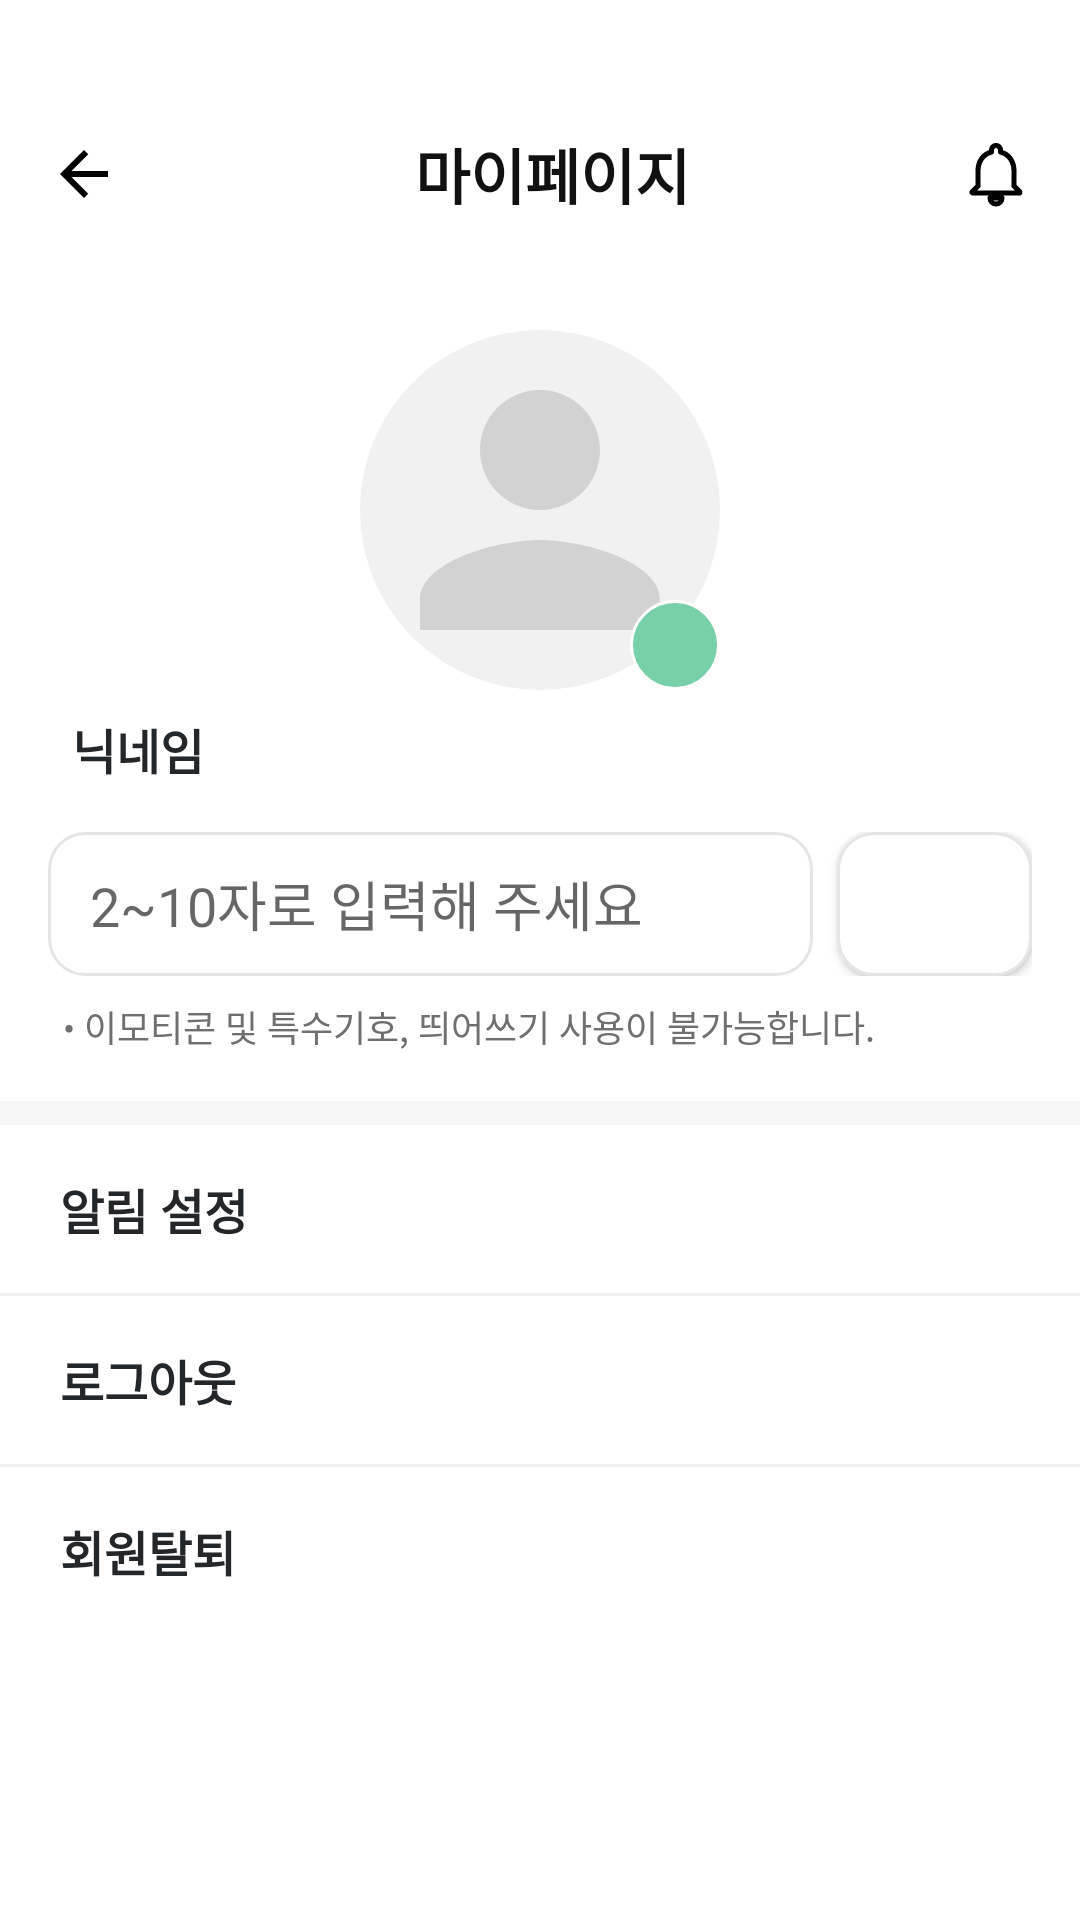

Where icons sit on this 1080px×1920px app screen, as (x1, y1, x2, y2):
arrow back: (60, 150, 108, 198)
알림: (969, 143, 1023, 207)
